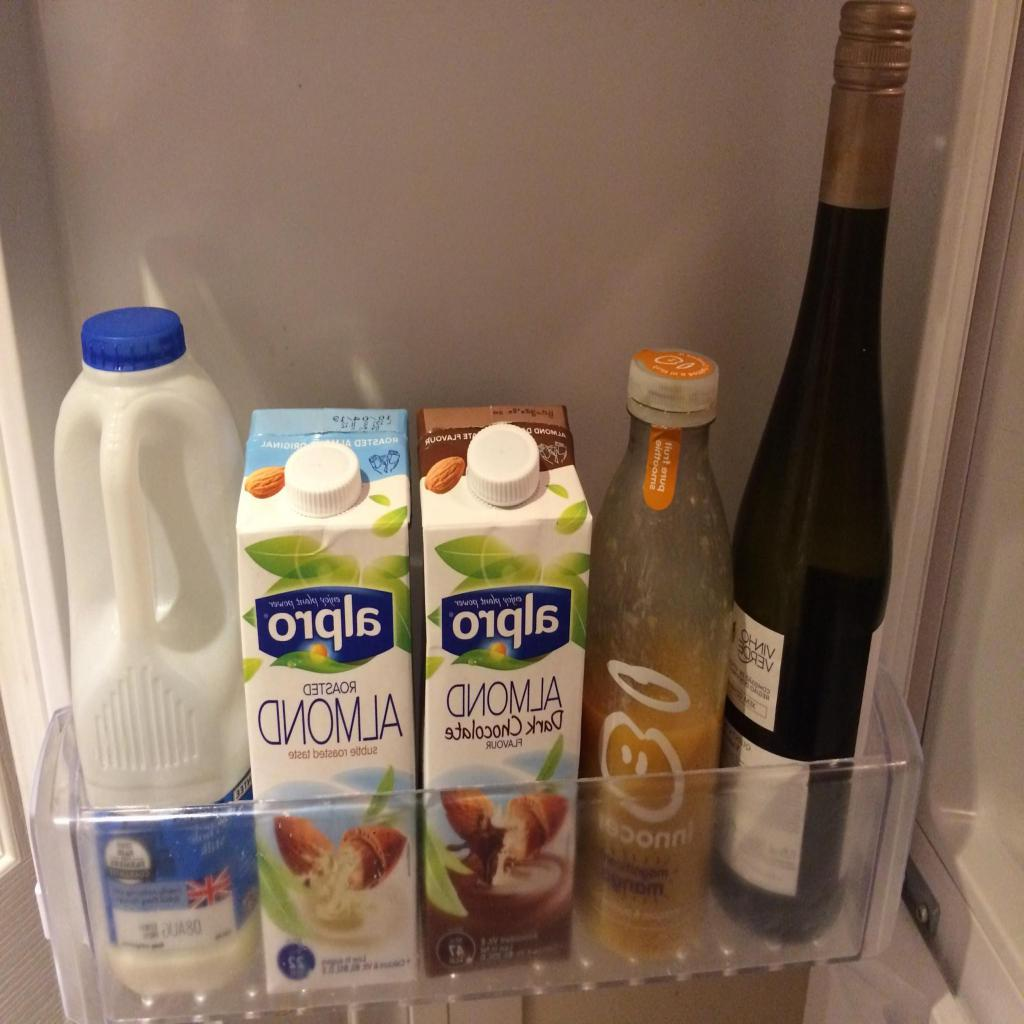Clear plastic bottle: (574, 347, 734, 961)
Glass bottle: (710, 0, 918, 944)
Metal bottle cap: (834, 1, 918, 69)
Plastic bottle cap: (80, 306, 186, 372), (467, 424, 540, 506), (284, 442, 362, 518), (627, 348, 719, 412)
